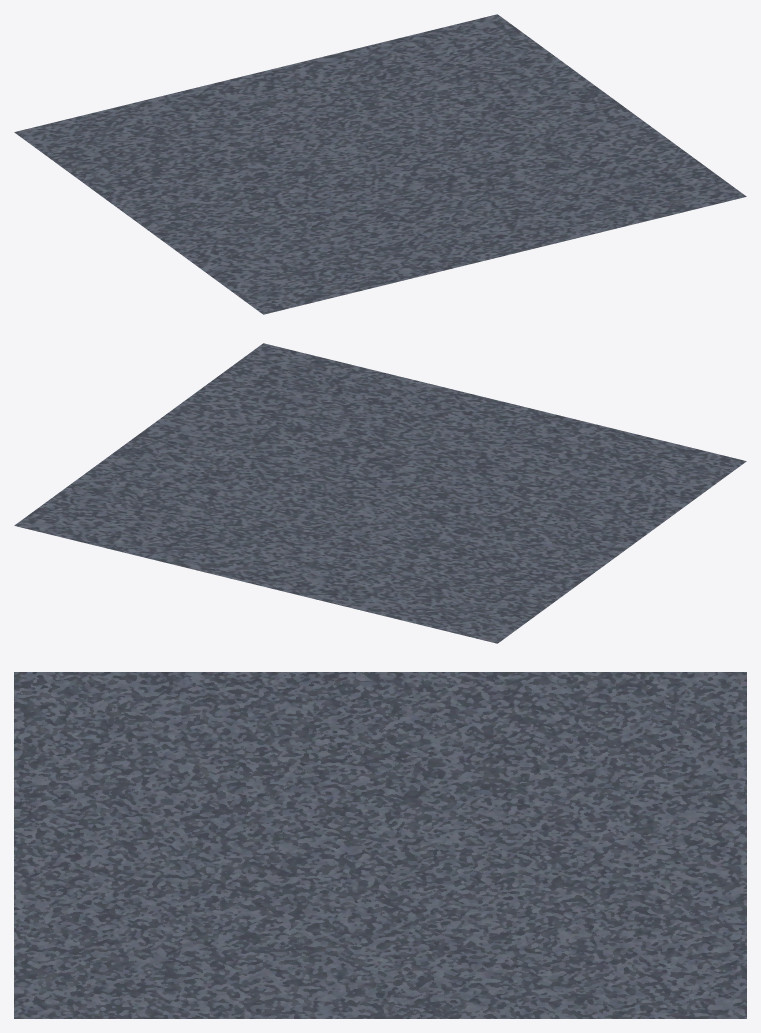
Rendered from floor_exported.fbx.
3 renders of one model, top to bottom at view 1: azimuth 30°, elevation 25°; view 2: azimuth 150°, elevation 25°; view 3: azimuth 270°, elevation 25°, orthographic. The views are drawn at different scales.
Visible parts, largest first — view 1: Floor; view 2: Floor; view 3: Floor.
Part boxes in pixels (box(x1,y1,x2,y2)): Floor: box(14, 14, 746, 314); Floor: box(14, 343, 746, 643); Floor: box(14, 672, 746, 1018).
Size of the model in its own units: 86.71 by 4.74e-15 by 77.46.
